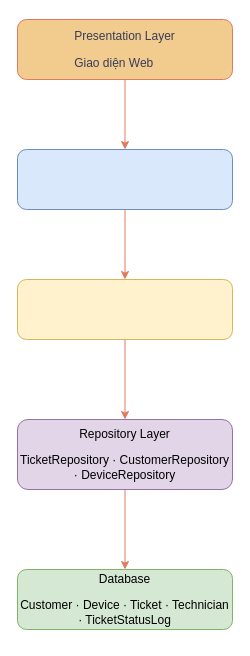
Image size: 250x656. Some labels were removed from this diagram. The shapes that lost their labels are listed below. From the top down, each one's centre as x and y in pixels, then its label:
the point at 124,179: Controller Layer TicketController
the point at 124,309: Service Layer TicketService · Nghiệp vụ tiếp nhận và phân loại
